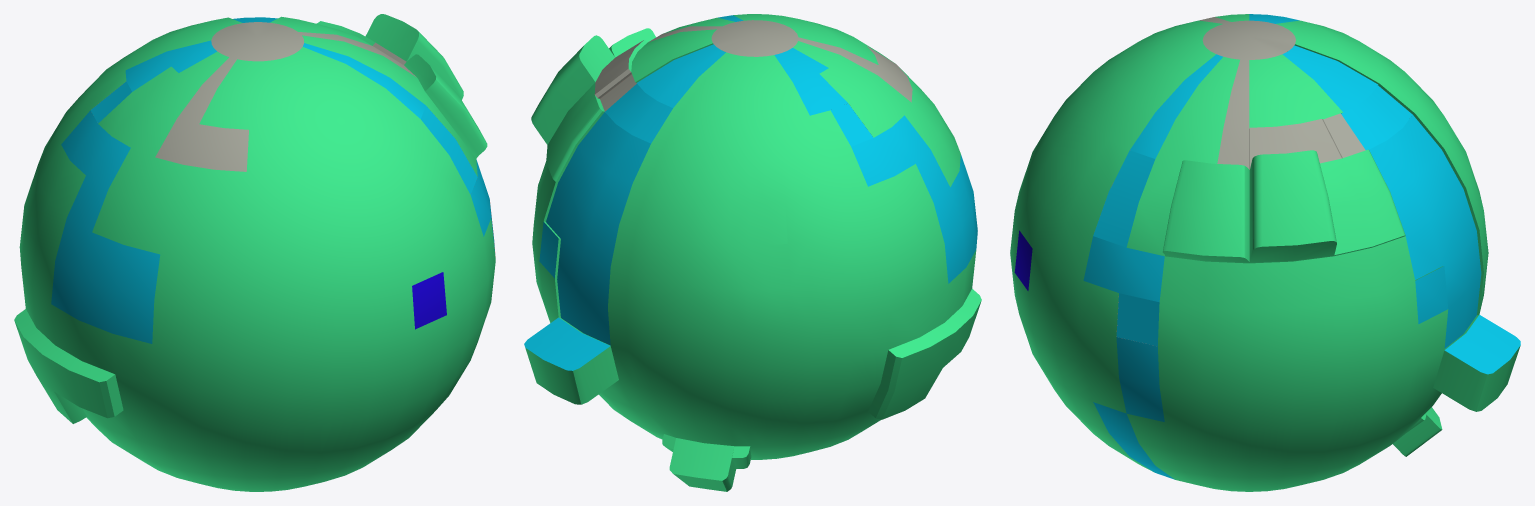
The model's file is planeetta_adjusted 1.fbx.
3 views of the same model, side by side, from view 1: azimuth 30°, elevation 25°; view 2: azimuth 150°, elevation 25°; view 3: azimuth 270°, elevation 25° (orthographic). The views are drawn at different scales.
Parts seen in each view (by area): view 1: planeetta main; view 2: planeetta main; view 3: planeetta main.
Part boxes in pixels (<box>): planeetta main: <box>14,14,495,491</box>; planeetta main: <box>524,14,981,491</box>; planeetta main: <box>1010,14,1520,491</box>.
Bounding box in the file's own units: 10287 × 10032 × 10674.
